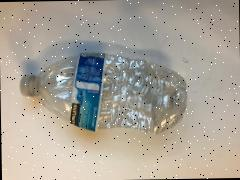plastic: (0, 29, 206, 165)
